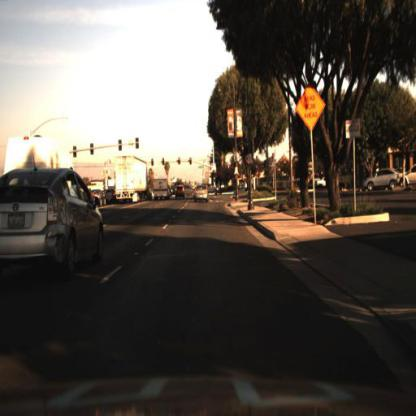car: (1, 163, 109, 281), (1, 133, 78, 185), (361, 164, 405, 195), (150, 175, 172, 206), (193, 183, 210, 206), (206, 179, 223, 199), (172, 183, 187, 205), (106, 186, 120, 207), (94, 187, 106, 208), (184, 183, 195, 199)
trafficLight-Red: (151, 156, 159, 170), (188, 155, 193, 170), (160, 157, 166, 169), (177, 156, 183, 168), (178, 155, 184, 167), (150, 158, 155, 170), (162, 157, 167, 169), (189, 157, 194, 169), (213, 167, 218, 179)
truck: (112, 153, 152, 208)
